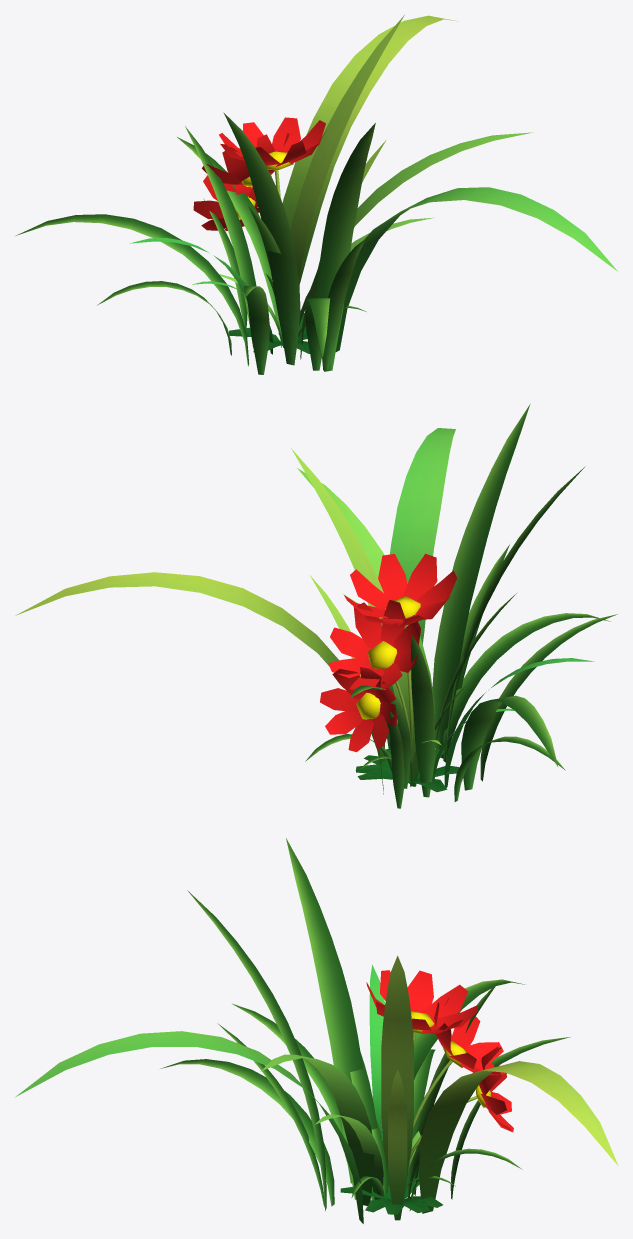
Rendered from grass_v3.glb.
The picture shows the model from 3 angles, top to bottom: view 1: azimuth 30°, elevation 25°; view 2: azimuth 150°, elevation 25°; view 3: azimuth 270°, elevation 25°; orthographic projection. The views are drawn at different scales.
Visible parts, largest first — view 1: windy, windy2, flower3, flower2, flower1; view 2: windy, flower3, flower1, flower2, windy2; view 3: windy, windy2, flower3, flower1, flower2, windy3.
Part boxes in pixels (x1,y1,x2,y2): windy: (15, 15, 617, 374); windy2: (97, 140, 434, 370); flower3: (219, 117, 325, 353); flower2: (193, 175, 307, 352); flower1: (202, 133, 307, 345); windy: (15, 404, 617, 797); flower3: (344, 553, 457, 789); flower1: (328, 600, 444, 791); flower2: (320, 667, 459, 792); windy2: (305, 544, 565, 808); windy: (15, 838, 618, 1223); windy2: (217, 1023, 522, 1220); flower3: (341, 970, 477, 1214); flower1: (340, 998, 507, 1212); flower2: (365, 1046, 513, 1212); windy3: (351, 1120, 455, 1198).
Bounding box in the file's own units: 0.9158 × 0.5411 × 0.9559.
Materials: 1 (1 with a texture image).
